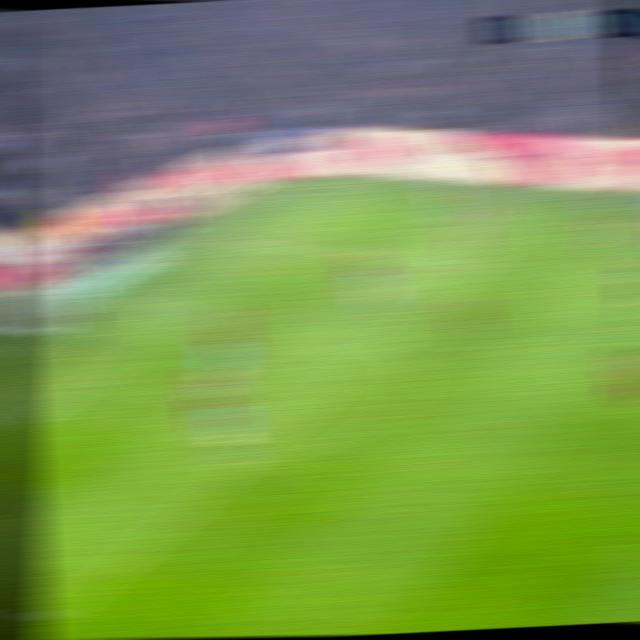bigarea_bottom_inner: (40, 605, 78, 625)
bigarea_top_inner: (463, 258, 494, 271)
bigarea_top_outter: (202, 233, 233, 244)
bottom_arc_area_intersection: (225, 456, 257, 470)
corner: (303, 177, 337, 186)
smallarea_top_inner: (185, 302, 218, 316)
smallarea_top_outter: (101, 293, 132, 303)
top_arc_area_intersection: (369, 336, 401, 350)
